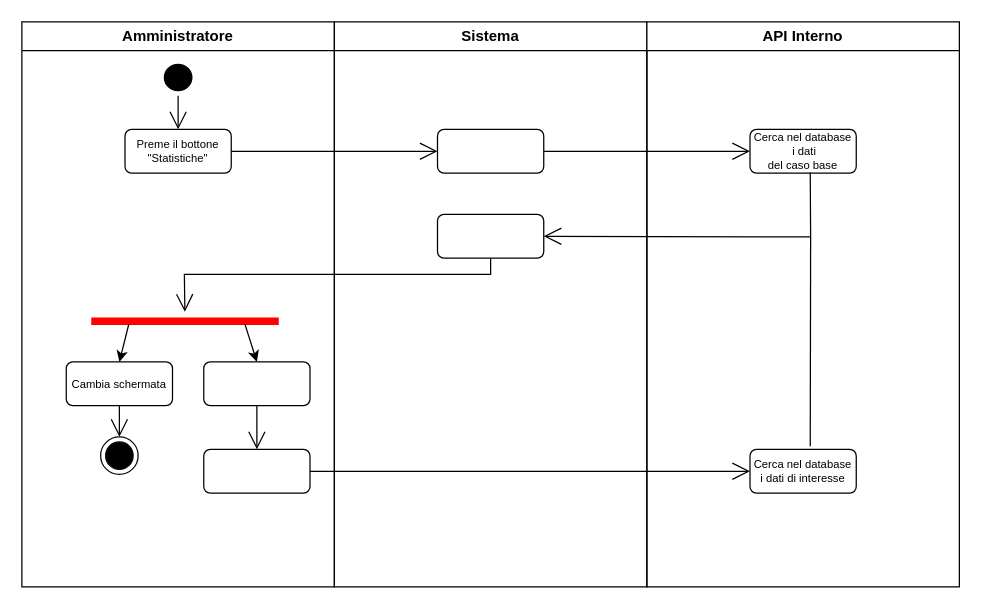
Image size: 981x609. Some labels were removed from this diagram. Here are the shapes that lost their labels. From the top down, the centre of each, then its label:
[490,150]: Mostra la schermata "Statistiche"
[490,235]: Mostra i dati d'interesse
[256,383]: Seleziona l'intervallo di riferimento
[256,470]: Seleziona la tipologia di statistiche
